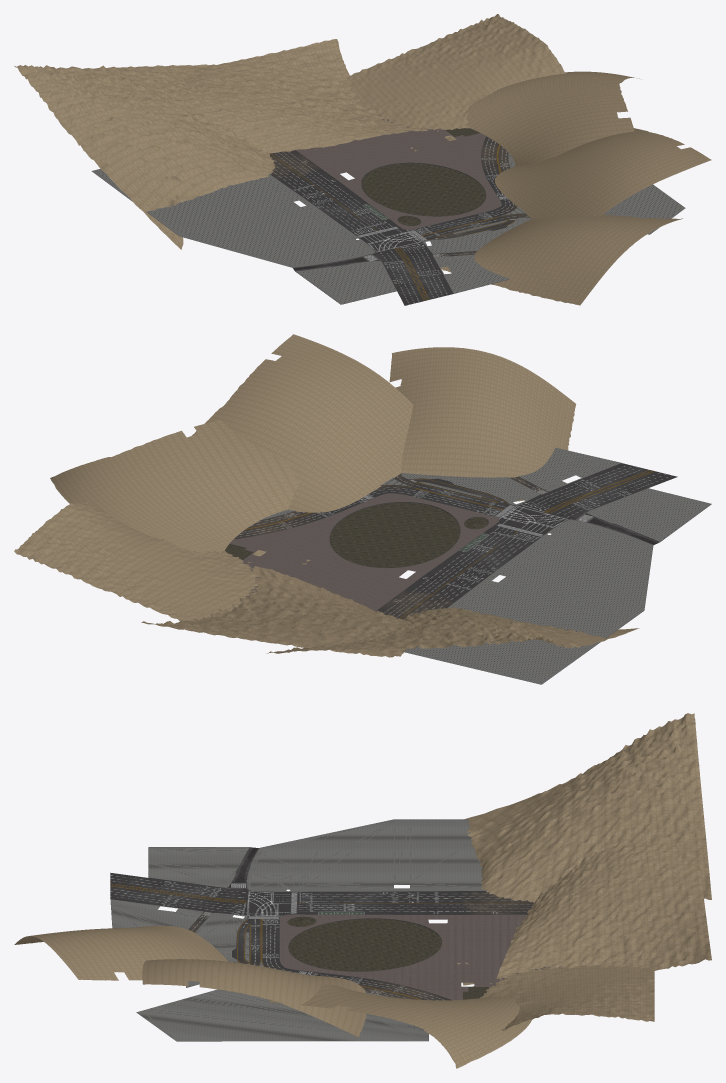
Rendered from terrain.FBX.
3 views of the same model, one above another, from view 1: azimuth 30°, elevation 25°; view 2: azimuth 150°, elevation 25°; view 3: azimuth 270°, elevation 25° (orthographic). The views are drawn at different scales.
Visible parts, largest first — view 1: Terrain; view 2: Terrain; view 3: Terrain.
Part boxes in pixels (x1,y1,x2,y2): Terrain: [14, 14, 711, 305]; Terrain: [14, 334, 711, 684]; Terrain: [14, 713, 711, 1068].
Bounding box in the file's own units: 53300 × 11348 × 55255.
Materials: 6 (6 with a texture image).
